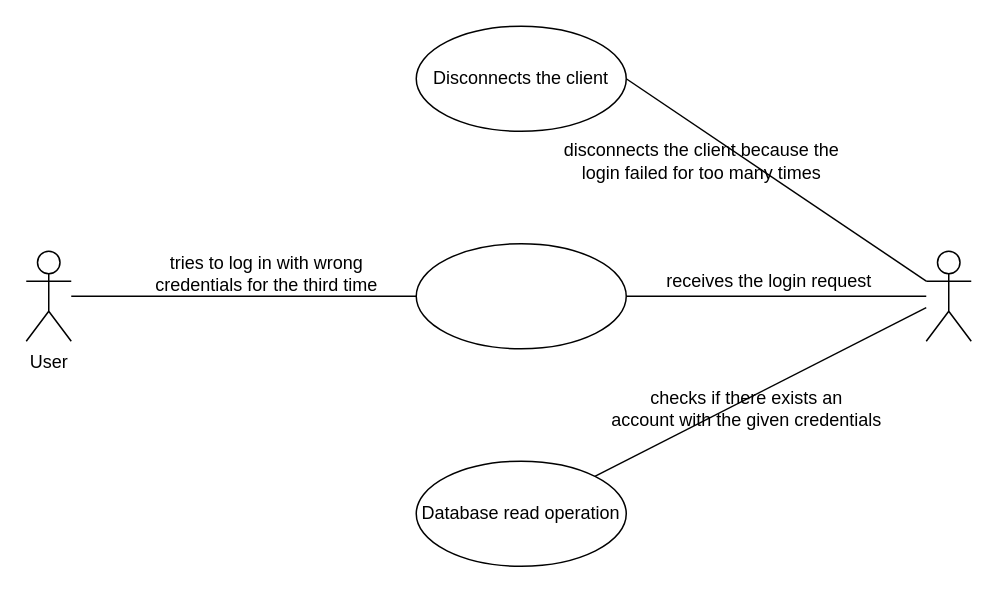
The diagram is 1001 pixels wide and 593 high, and some of its shapes have lost their labels. The box of each missing label's shape, as (x1, y1, x2, y2) in pixels:
Login: (415, 242, 626, 349)
Server: (925, 250, 971, 341)
